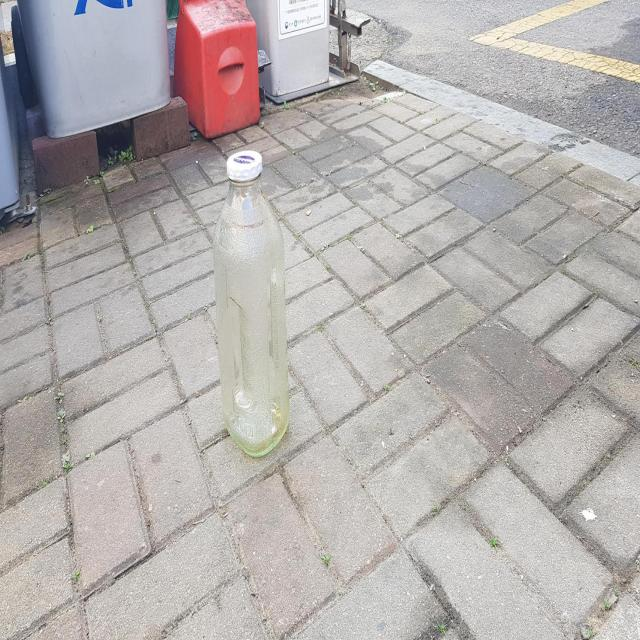glass: (213, 148, 289, 455)
